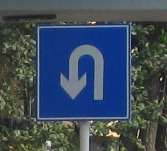u_turn: (36, 23, 131, 120)
